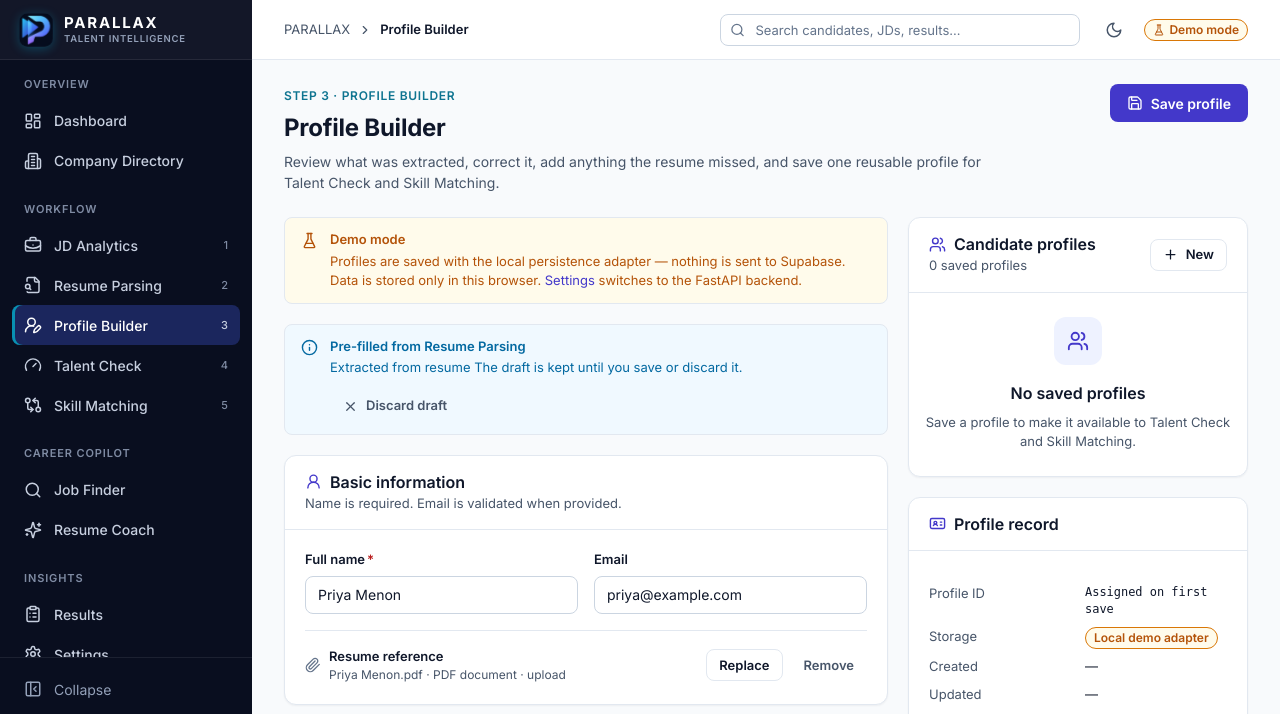
Test: Profile Builder Integration › prefills the form from parsed resume draft and preserves all sections
Expected: the field labelled "Email" holds "priya@example.com", [594,576,867,614]
Expected: the text "Priya Menon.pdf · PDF document · upload" is shown, [329,666,566,684]
Replace the text in the field labelled "Full name*" with "Priya M." at (442, 594), box [305,576,578,614]
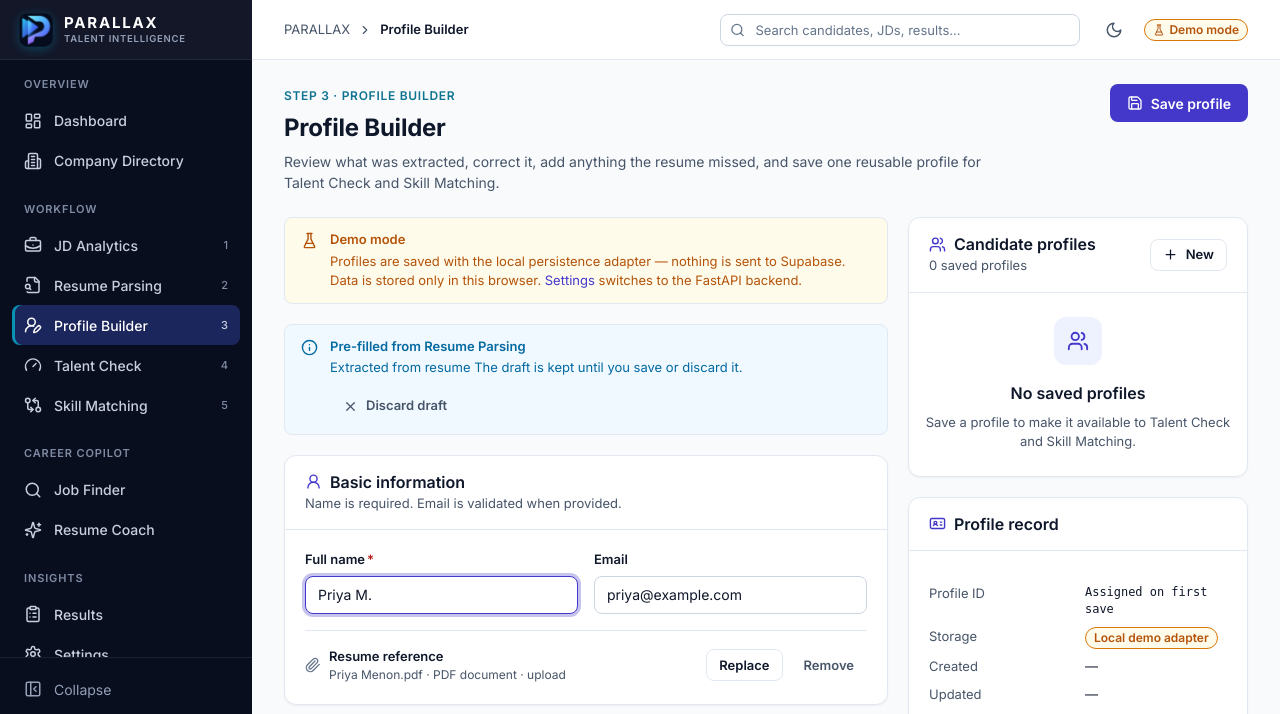
// Save profile
Click the button "Save profile".
click(1179, 103)  # box [1110,84,1248,122]
(page scrolled)
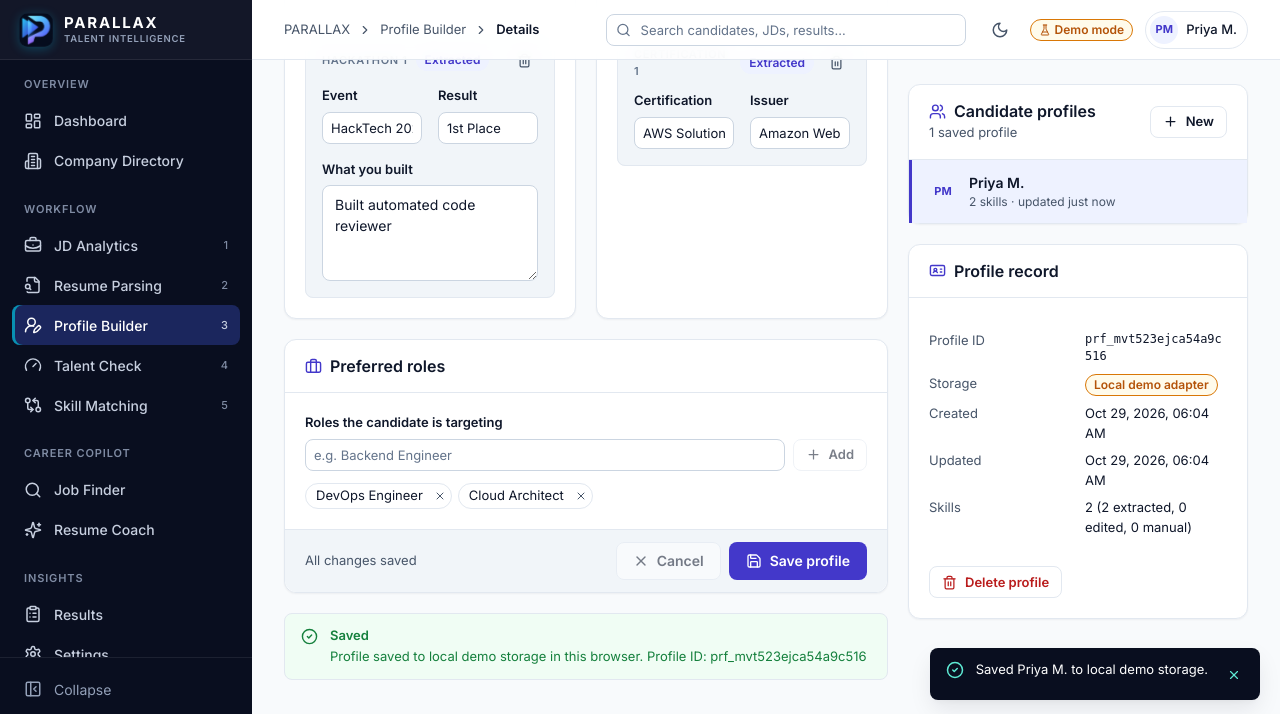
Expected: the text "Profile saved to local demo storage" is shown, [330,648,866,664]
